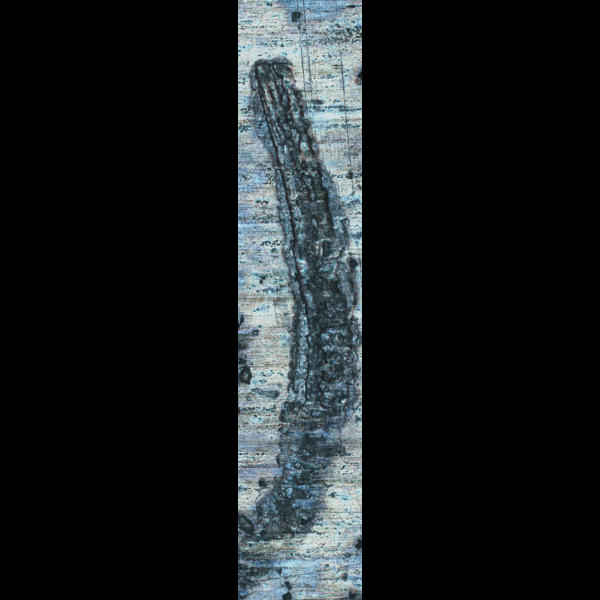d: (242, 50, 362, 588)
